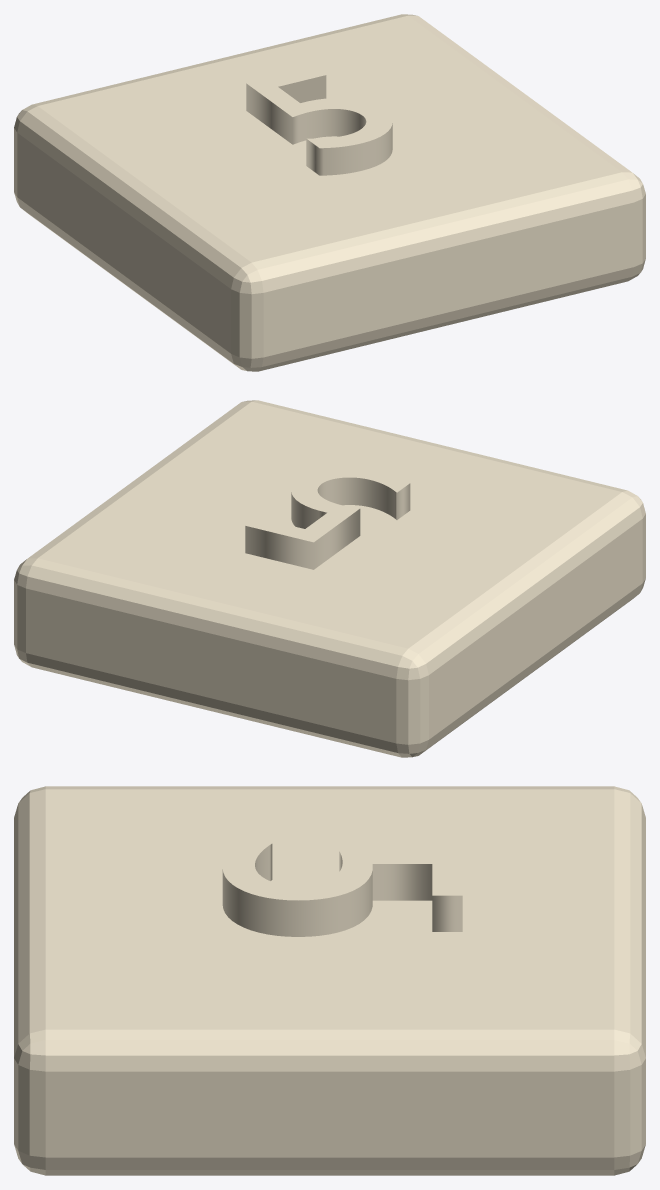
File: Tile_5.fbx
3 renders of one model, top to bottom at view 1: azimuth 30°, elevation 25°; view 2: azimuth 150°, elevation 25°; view 3: azimuth 270°, elevation 25°, orthographic. The views are drawn at different scales.
Visible parts, largest first — view 1: Tile_5; view 2: Tile_5; view 3: Tile_5.
Part boxes in pixels (x1,y1,x2,y2): Tile_5: (14,14,645,371); Tile_5: (14,400,645,757); Tile_5: (14,786,645,1175).
Bounding box in the file's own units: 80 × 25.1 × 80.
